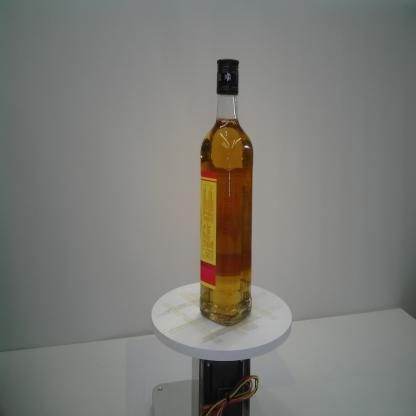Seasoner: (199, 59, 254, 327)
